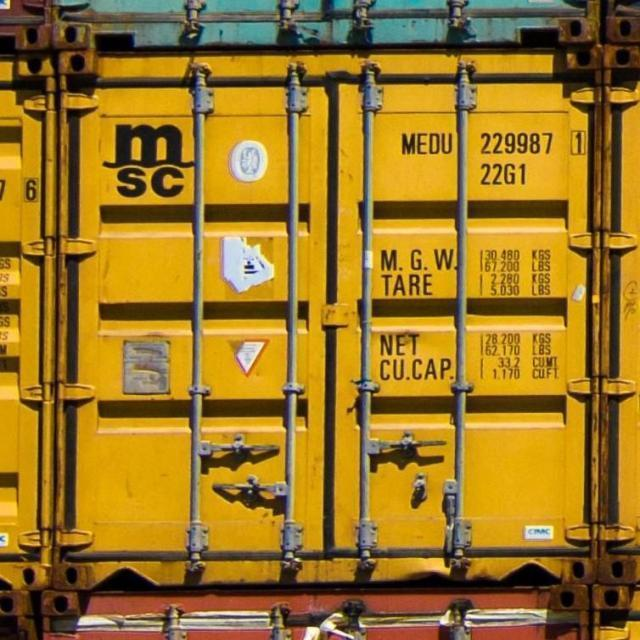ISO: (484, 163, 530, 187)
container_number: (401, 128, 584, 158)
